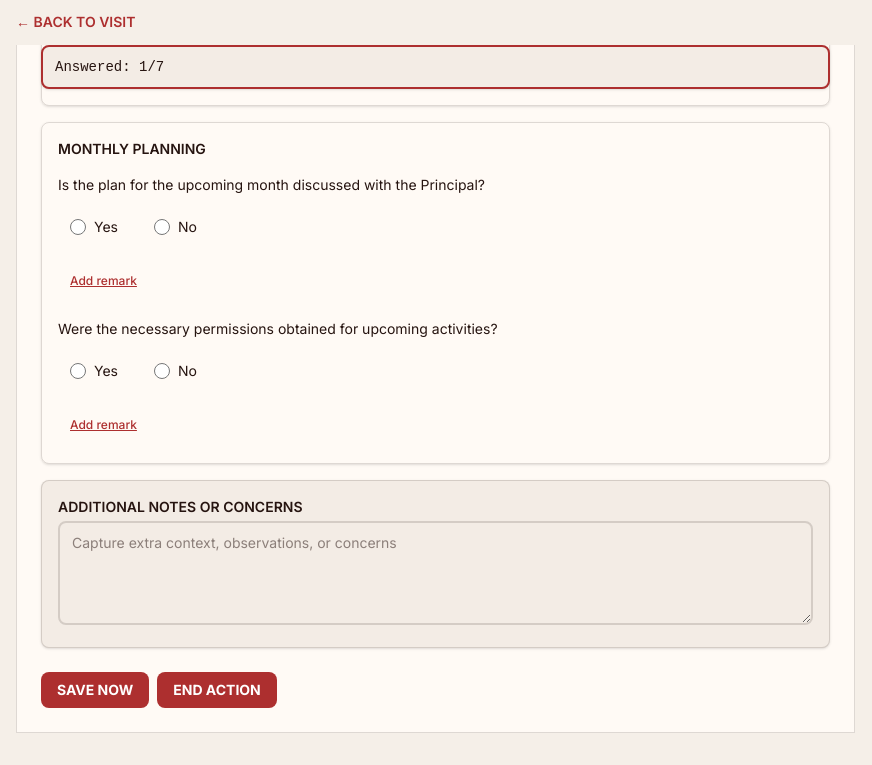
Scenario: VisitActionDetailPage › ends an action via save-before-end + /end using GPS and updates UI to completed
(page scrolled)
Click the button "End Action": (217, 690) [157, 672, 277, 708]
(page scrolled)
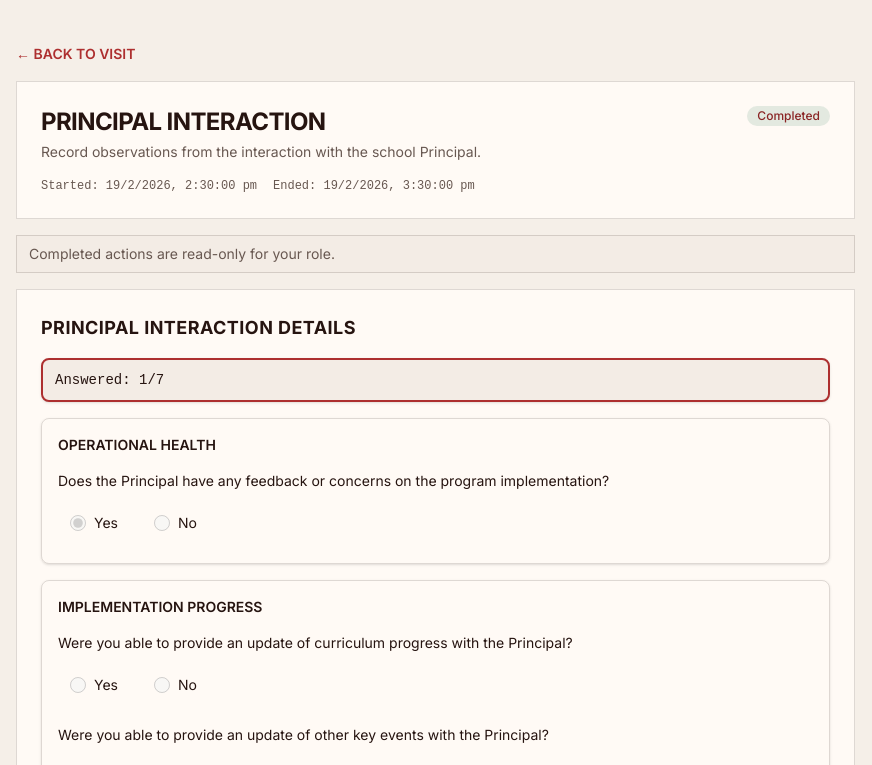
Now the text "Completed" is shown, box [747, 106, 830, 126]
Now the button "End Action" is gone
